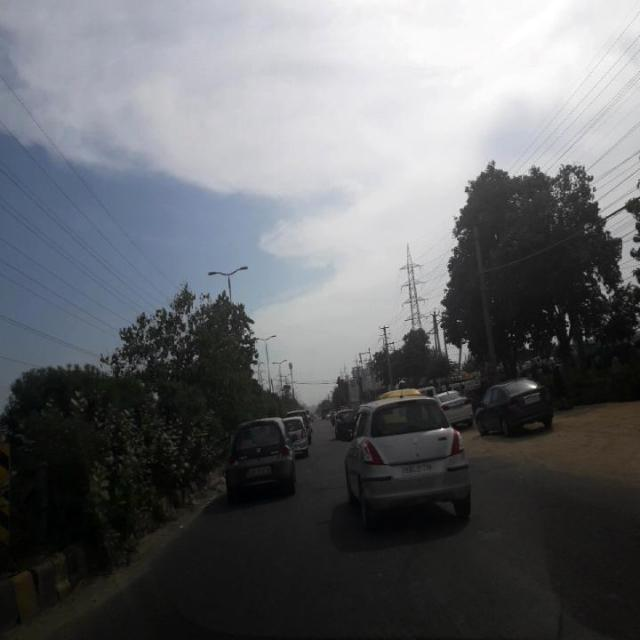crack: (102, 514, 640, 634)
